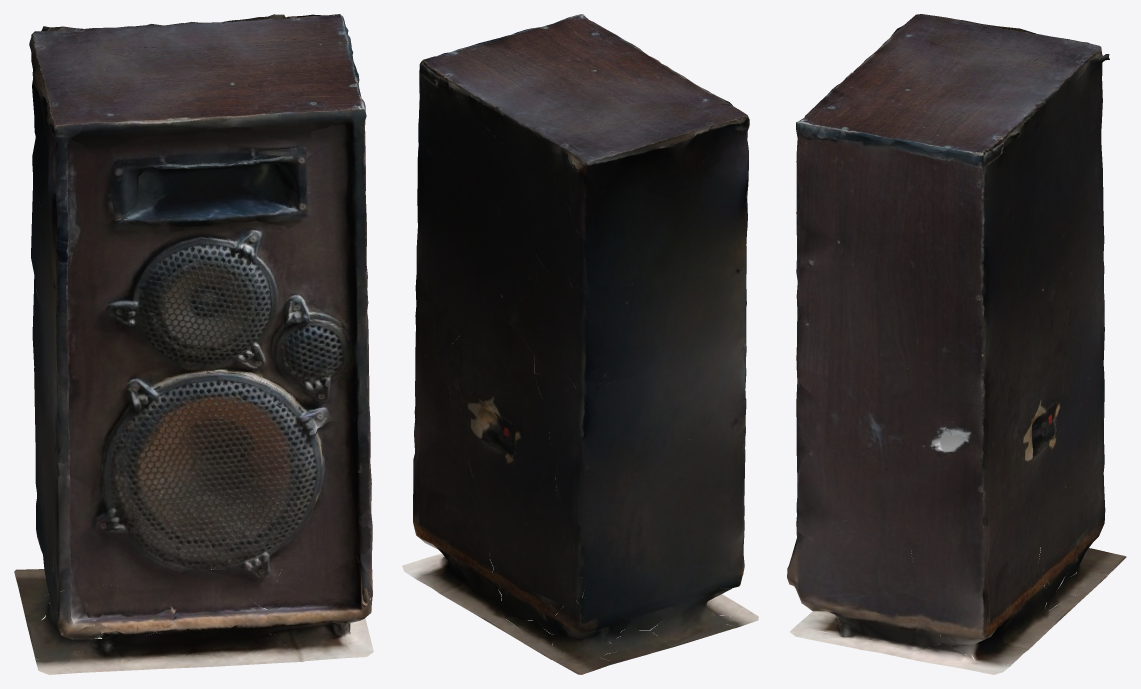
File: equipolargobake.glb
3 renders of one model, left to right at view 1: azimuth 30°, elevation 25°; view 2: azimuth 150°, elevation 25°; view 3: azimuth 270°, elevation 25°, orthographic. The views are drawn at different scales.
Parts seen in each view (by area): view 1: Mesh_0; view 2: Mesh_0; view 3: Mesh_0.
Part boxes in pixels (left/top/right/bottom): Mesh_0: left=14, top=14, right=373, bottom=674; Mesh_0: left=402, top=14, right=758, bottom=674; Mesh_0: left=787, top=14, right=1126, bottom=674.
Bounding box in the file's own units: 0.5568 × 0.8423 × 0.5006.
1 material, 1 textured.
